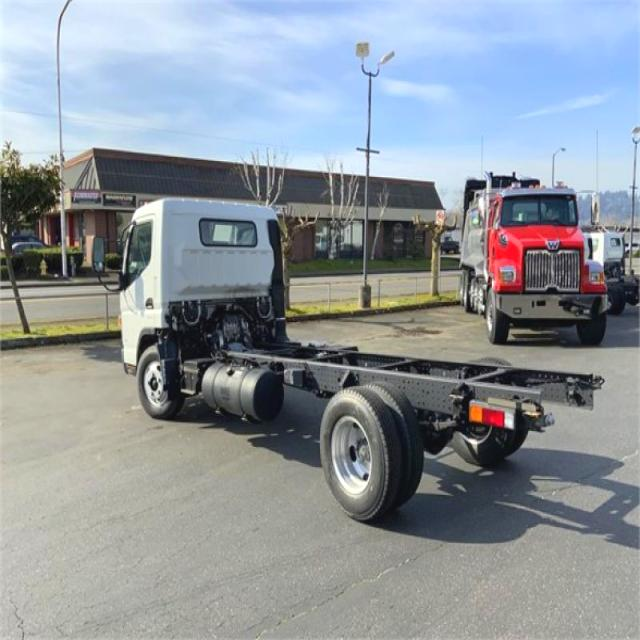truck: (118, 193, 605, 540), (457, 168, 612, 346)
